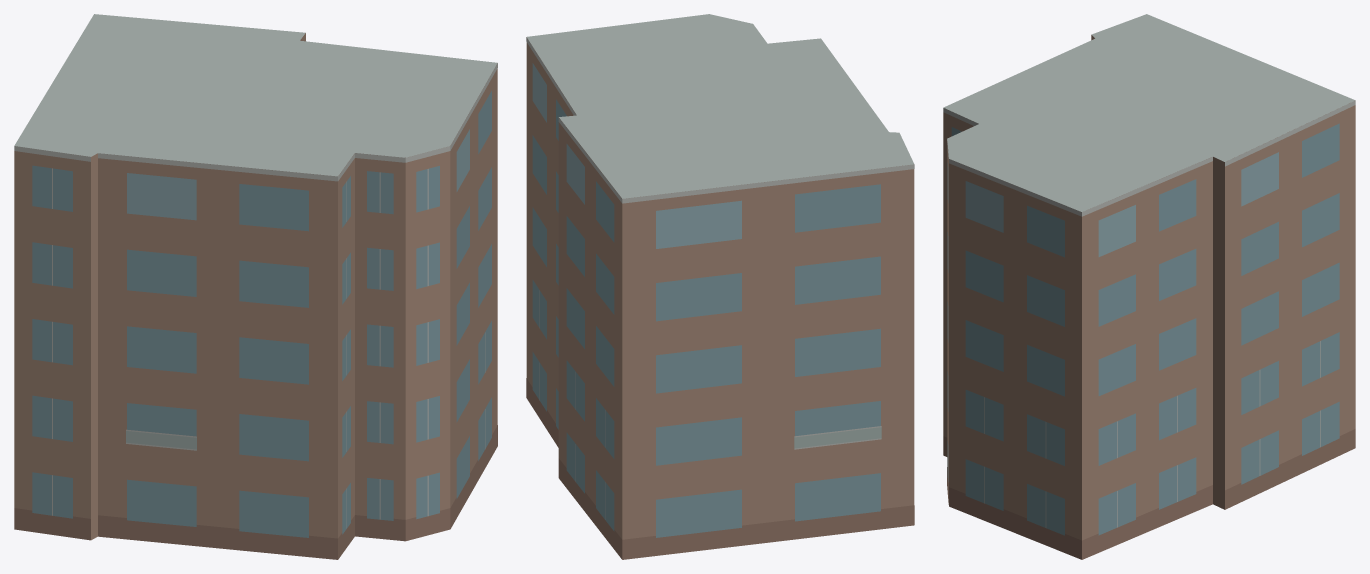
File: survey-upis-32581911.glb
3 views of the same model, side by side, from view 1: azimuth 30°, elevation 25°; view 2: azimuth 150°, elevation 25°; view 3: azimuth 270°, elevation 25° (orthographic). The views are drawn at different scales.
Visible parts, largest first — view 1: survey-upis-32581911.tmp; view 2: survey-upis-32581911.tmp; view 3: survey-upis-32581911.tmp.
Boxes of the visible parts, x1=… form: survey-upis-32581911.tmp: x1=14, y1=14, x2=497, y2=559; survey-upis-32581911.tmp: x1=526, y1=14, x2=914, y2=559; survey-upis-32581911.tmp: x1=943, y1=14, x2=1355, y2=559.
Size of the model in its own units: 22.8 by 18.65 by 20.06.
